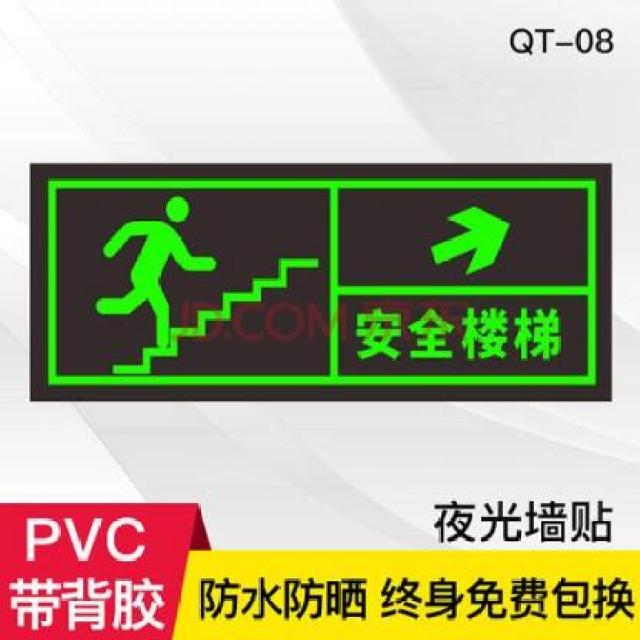exit_sign: (25, 156, 613, 402)
